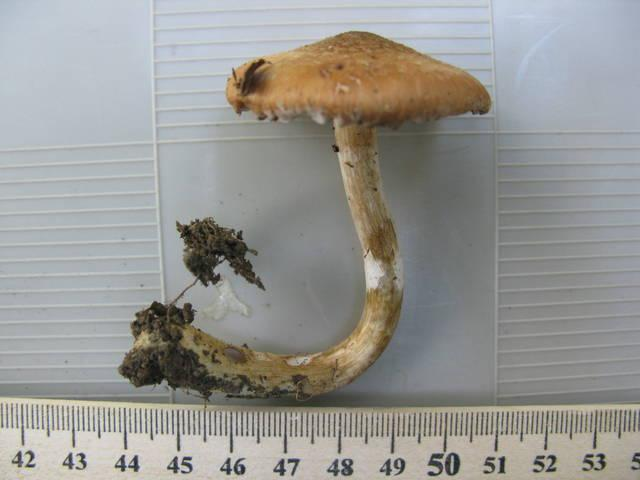Edible Mushroom: (116, 28, 492, 402)
